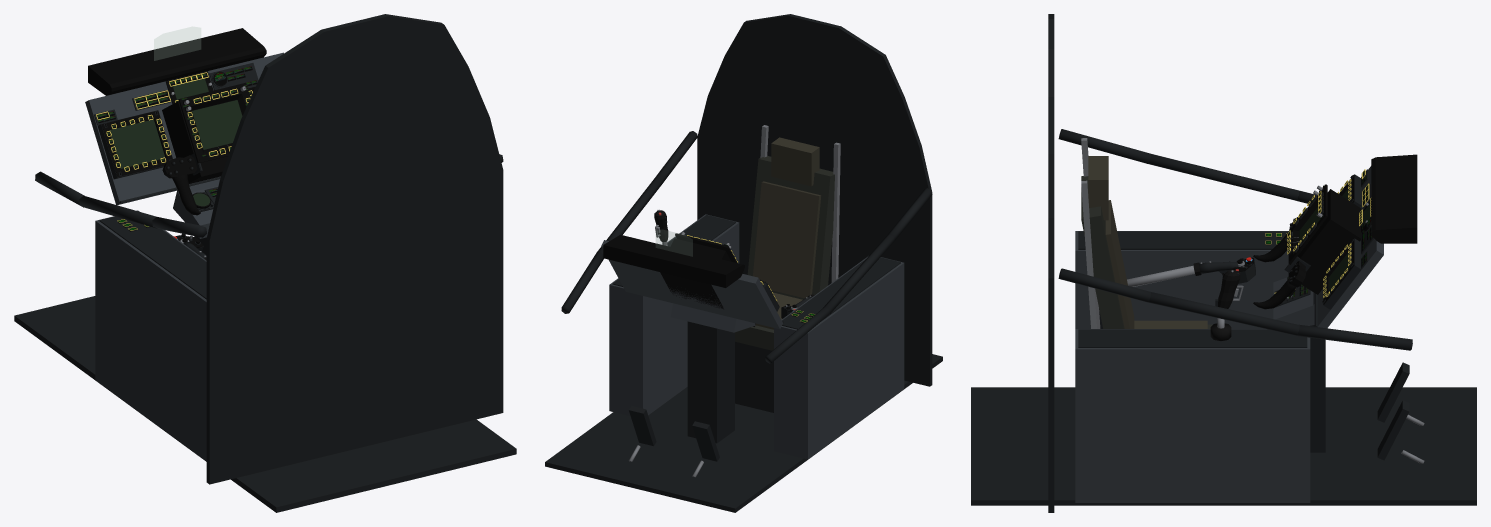
The model's file is cockpit_ah64_cpg.glb.
The picture shows the model from 3 angles, left to right: view 1: azimuth 30°, elevation 25°; view 2: azimuth 150°, elevation 25°; view 3: azimuth 270°, elevation 25°; orthographic projection. The views are drawn at different scales.
Parts seen in each view (by area): view 1: dark.158, panel_grey.003, dark.146, black, dark.144, panel_grey, panel_grey.001, screen_left, screen_third, hud_glass_69, black.059, dark.153 (+5 smaller); view 2: dark.158, panel_grey.003, dark.146, panel_grey.004, cushion_96, dark.125, panel_grey, black, seat_95, dark.149, cushion_97, dark.144 (+15 smaller); view 3: panel_grey.004, dark.146, panel_grey.003, black, dark.145, dark.158, dark.144, black.059, seat_95, dark.125, dark.156, dark.153 (+14 smaller).
Part boxes in pixels (x1,y1,x2,y2): dark.158: (206,14,503,484); panel_grey.003: (95,210,206,461); dark.146: (14,296,516,512); black: (88,28,266,95); dark.144: (99,216,206,299); panel_grey: (92,108,220,205); panel_grey.001: (85,52,283,126); screen_left: (109,119,165,168); screen_third: (192,100,242,149); hud_glass_69: (154,27,200,60); black.059: (162,99,242,157); dark.153: (79,195,156,228); dark.158: (697,14,932,386); panel_grey.003: (774,256,904,459); dark.146: (545,354,942,512); panel_grey.004: (609,214,739,415); cushion_96: (753,181,821,298); dark.125: (687,321,734,443); panel_grey: (609,259,782,329); black: (603,234,744,287); seat_95: (747,156,834,299); dark.149: (735,341,773,412); cushion_97: (771,137,819,186); dark.144: (782,257,900,329); panel_grey.004: (1075,329,1310,502); dark.146: (971,387,1476,505); panel_grey.003: (1075,231,1288,328); black: (1371,154,1417,243); dark.145: (1078,329,1307,347); dark.158: (1048,14,1054,512); dark.144: (1078,231,1288,249); black.059: (1297,189,1361,283); seat_95: (1081,176,1124,328); dark.125: (1310,325,1325,452); dark.156: (1148,292,1299,335); dark.153: (1148,154,1299,200).
Bounding box in the file's own units: 1.15 × 1.54 × 1.7.
Materials: 27 (6 with a texture image).
